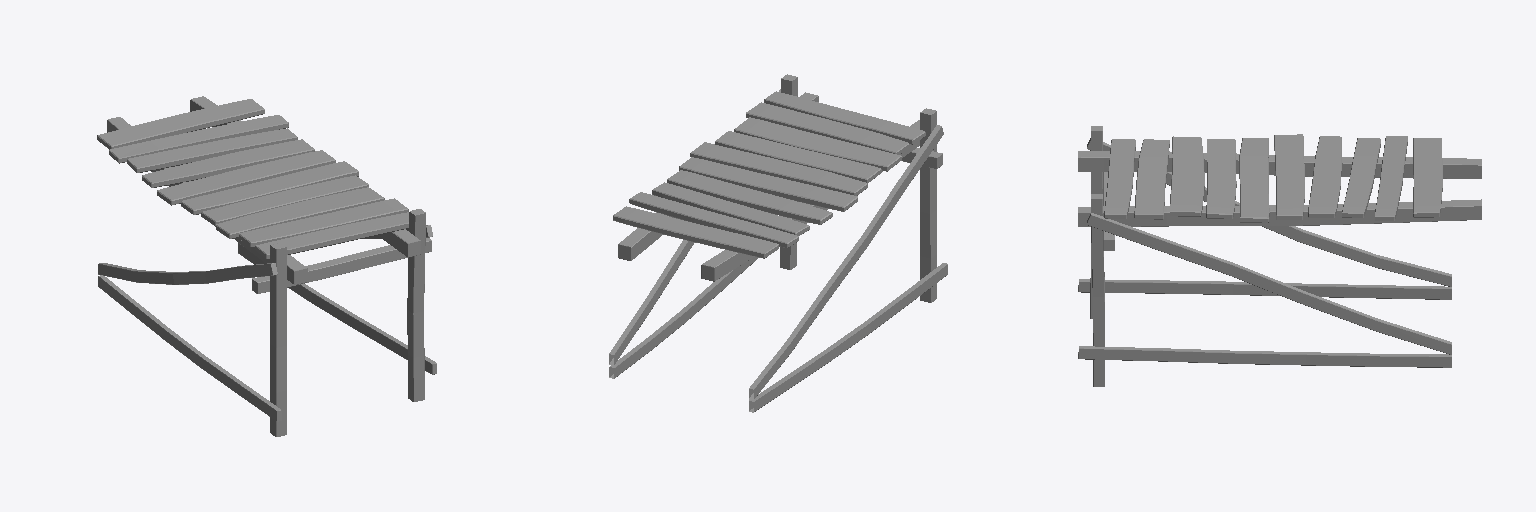
Rendered from ou_pirs_v1_low.obj.
The picture shows the model from 3 angles: view 1: azimuth 30°, elevation 25°; view 2: azimuth 150°, elevation 25°; view 3: azimuth 270°, elevation 25°; orthographic projection.
Parts seen in each view (by area): view 1: pirs_1_low; view 2: pirs_1_low; view 3: pirs_1_low.
Part boxes in pixels (x1,y1,x2,y2): pirs_1_low: (97,96,436,436); pirs_1_low: (609,74,947,412); pirs_1_low: (1078,126,1481,386).
Size of the model in its own units: 3.25 by 3.32 by 6.48.